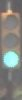Green: (2, 4, 22, 90)
